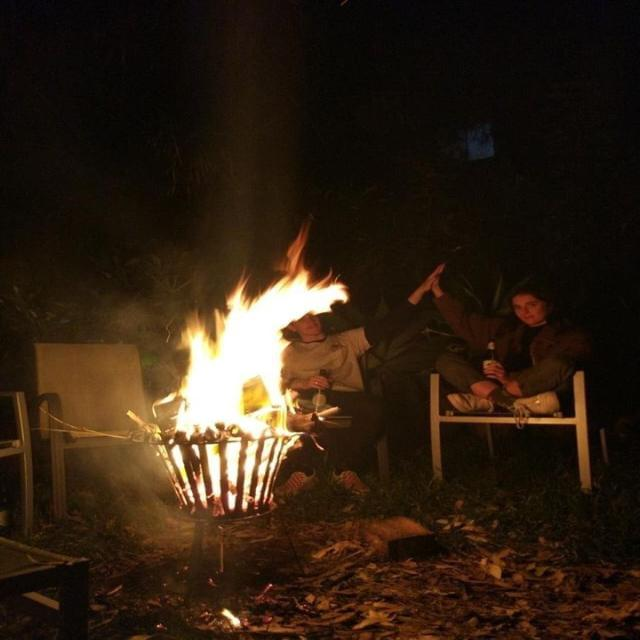fire: (166, 223, 347, 512)
